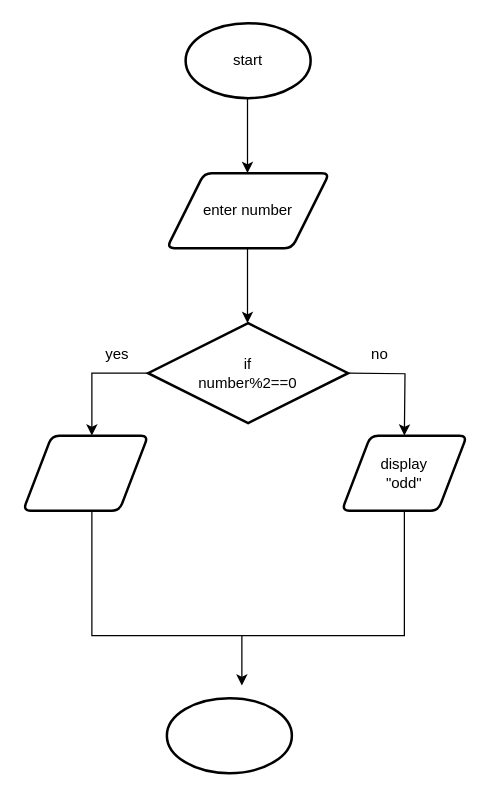
The diagram is 489 pixels wide and 795 high, and some of its shapes have lost their labels. Here are the shapes that lost their labels. From the top down, the centre of each, then its label:
point (85, 472): display "even"
point (228, 735): stop
